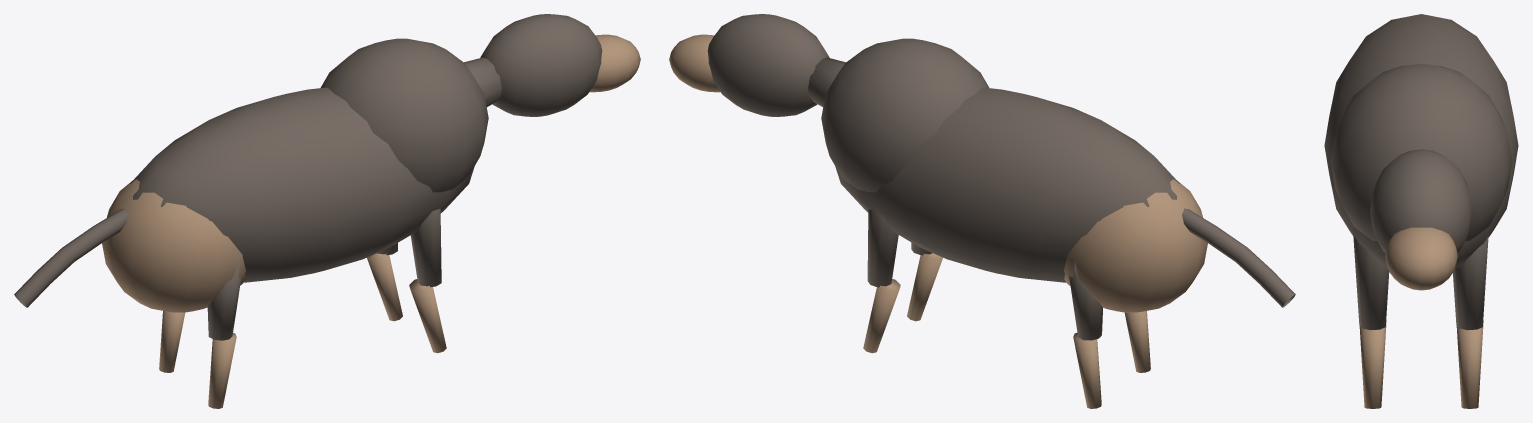
The model's file is varnak.glb.
3 views of the same model, side by side, from view 1: azimuth 30°, elevation 25°; view 2: azimuth 150°, elevation 25°; view 3: azimuth 270°, elevation 25° (orthographic). The views are drawn at different scales.
Visible parts, largest first — view 1: body, shoulder, hip, head, tail, muzzle, leg_upper_2, leg_upper_0, leg_lower_0, leg_lower_2, leg_lower_3, leg_lower_1 (+1 smaller); view 2: body, shoulder, hip, head, tail, muzzle, leg_upper_3, leg_upper_1, leg_lower_1, leg_lower_3, leg_lower_2, leg_lower_0 (+1 smaller); view 3: shoulder, body, head, muzzle, leg_upper_2, leg_upper_3, leg_lower_2, leg_lower_3.
Boxes of the visible parts, box(x1,y1,x2,y2) form: body: box(130, 87, 474, 282); shoulder: box(320, 38, 488, 192); hip: box(102, 179, 245, 312); head: box(480, 14, 602, 116); tail: box(14, 208, 127, 307); muzzle: box(589, 34, 640, 92); leg_upper_2: box(410, 208, 441, 287); leg_upper_0: box(207, 259, 241, 340); leg_lower_0: box(208, 333, 236, 408); leg_lower_2: box(409, 279, 446, 353); leg_lower_3: box(367, 253, 402, 321); leg_lower_1: box(159, 311, 185, 372); body: box(835, 87, 1179, 282); shoulder: box(821, 38, 989, 192); hip: box(1064, 179, 1207, 312); head: box(707, 14, 829, 116); tail: box(1182, 208, 1295, 307); muzzle: box(669, 34, 720, 92); leg_upper_3: box(867, 208, 898, 287); leg_upper_1: box(1069, 261, 1102, 340); leg_lower_1: box(1073, 333, 1101, 408); leg_lower_3: box(863, 279, 900, 353); leg_lower_2: box(907, 253, 942, 321); leg_lower_0: box(1124, 311, 1150, 372); shoulder: box(1330, 64, 1512, 240); body: box(1324, 14, 1518, 269); head: box(1370, 149, 1472, 252); muzzle: box(1385, 227, 1457, 290); leg_upper_2: box(1353, 235, 1389, 330); leg_upper_3: box(1453, 236, 1488, 330); leg_lower_2: box(1359, 320, 1386, 408); leg_lower_3: box(1456, 320, 1483, 408).
Bounding box in the file's own units: 3.45 × 1.56 × 0.8406.
